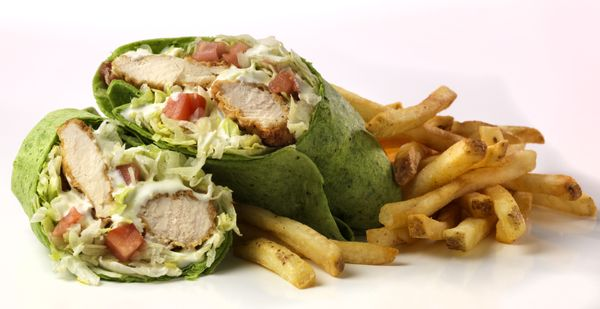curry: (295, 91, 403, 231)
